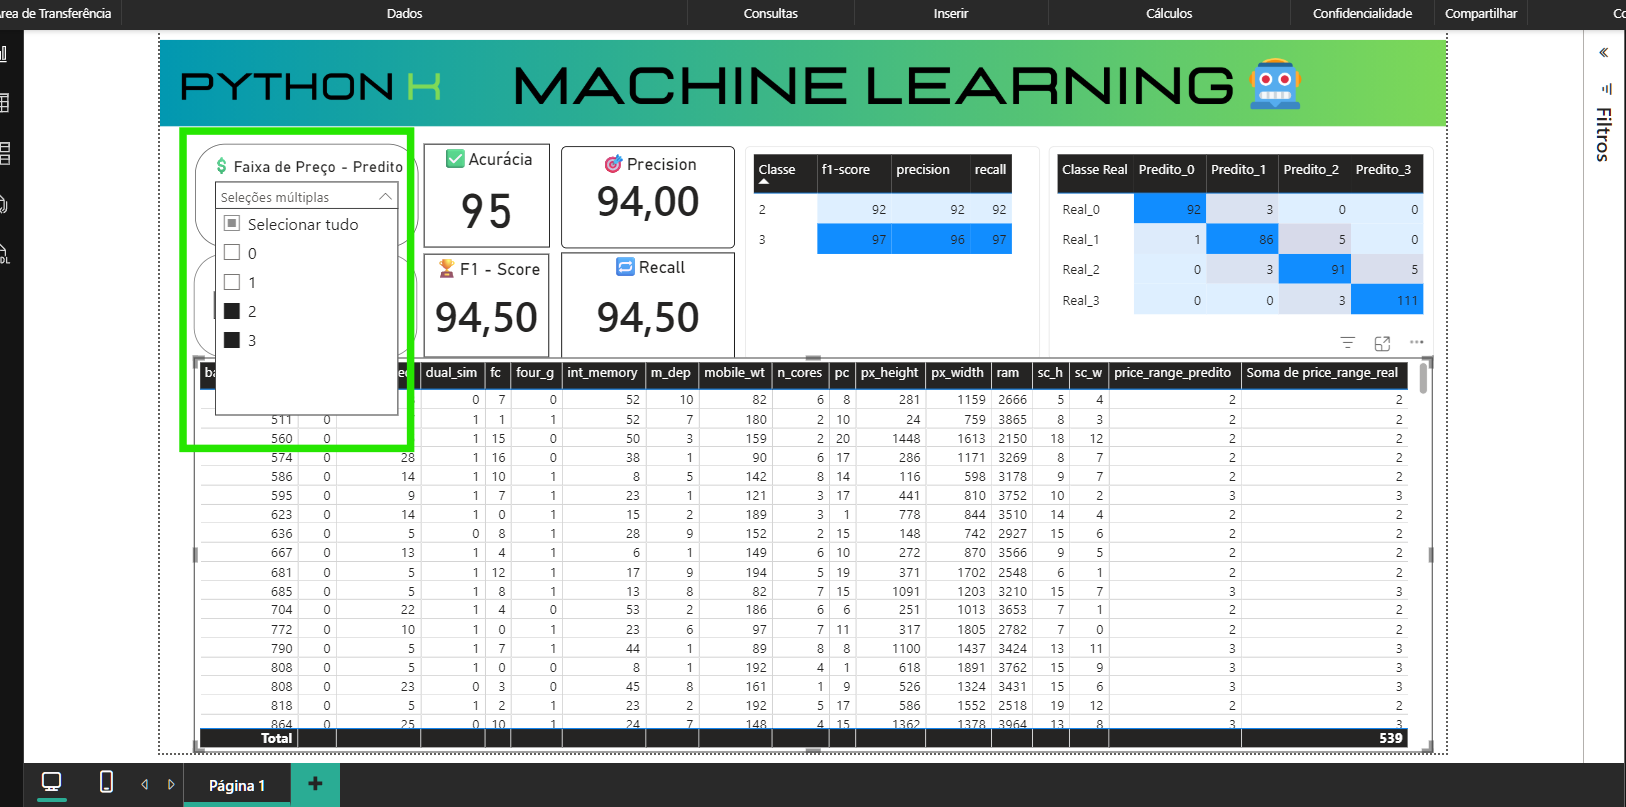

This screenshot's page, from the dashboard's own definition file:
{"tool":"powerbi","page":{"name":"Página 1","canvas":[1280,720],"ordinal":0},"visuals":[{"type":"tableEx","fields":{"Values":["df_resultado.battery_power","df_resultado.blue","df_resultado.clock_speed","df_resultado.dual_sim","df_resultado.fc","df_resultado.four_g","df_resultado.int_memory","df_resultado.m_dep","df_resultado.mobile_wt","df_resultado.n_cores","df_resultado.pc","df_resultado.px_height"]},"box":[33.1,325.8,1233.3,392.9],"z":0},{"type":"slicer","title":"💲Faixa de Preço - Predito","fields":{"Values":["df_resultado.price_range_predito"]},"box":[34.5,113.4,222.2,103.4],"z":1000},{"type":"slicer","title":"💲Faixa de Preço - Real","fields":{"Values":["df_resultado.price_range_real"]},"box":[33.6,223.1,222.2,103.4],"z":2000},{"type":"cardVisual","title":"🎯Precision","fields":{"Data":["Avg(df_classification_repost.precision)"]},"box":[399.9,116.1,173.2,101.6],"z":3000},{"type":"tableEx","fields":{"Values":["df_classification_repost.Classe","df_classification_repost.f1-score","df_classification_repost.precision","df_classification_repost.recall"]},"box":[582.2,115.2,293.8,213.1],"z":4000},{"type":"tableEx","fields":{"Values":["df_matriz_confusao.Classe Real","df_matriz_confusao.Predito_0","df_matriz_confusao.Predito_1","df_matriz_confusao.Predito_2","df_matriz_confusao.Predito_3"]},"box":[884.1,116.1,383.6,213.1],"z":5000},{"type":"card","title":"🏆F1 - Score","fields":{"Values":["Avg(df_classification_repost.f1-score)"]},"box":[263,223.1,125.1,103.4],"z":6000},{"type":"card","title":"🔁Recall","fields":{"Values":["Avg(df_classification_repost.recall)"]},"box":[399.9,221.3,173.2,106.1],"z":7000},{"type":"image","box":[0,7.3,1280.4,90.7],"z":8000},{"type":"card","title":"✅Acurácia","fields":{"Values":["Sum(df_classification_repost.f1-score)"]},"box":[262.6,113.8,125.5,103.1],"z":9000}]}

Visuals, with their boxes on the page's 1280x720 design canvas (x1, y1, x2, y2). These are canvas units, not pixel positions in the 1626x807 screenshot, which may show the page scaled, cropped or inside an application window:
tableEx - df_resultado.battery_power x df_resultado.blue: 33 326 1266 719
"💲Faixa de Preço - Predito" slicer: 34 113 257 217
"💲Faixa de Preço - Real" slicer: 34 223 256 326
"🎯Precision" cardVisual: 400 116 573 218
tableEx - df_classification_repost.Classe x df_classification_repost.f1-score: 582 115 876 328
tableEx - df_matriz_confusao.Classe Real x df_matriz_confusao.Predito_0: 884 116 1268 329
"🏆F1 - Score" card: 263 223 388 326
"🔁Recall" card: 400 221 573 327
image: 0 7 1280 98
"✅Acurácia" card: 263 114 388 217
